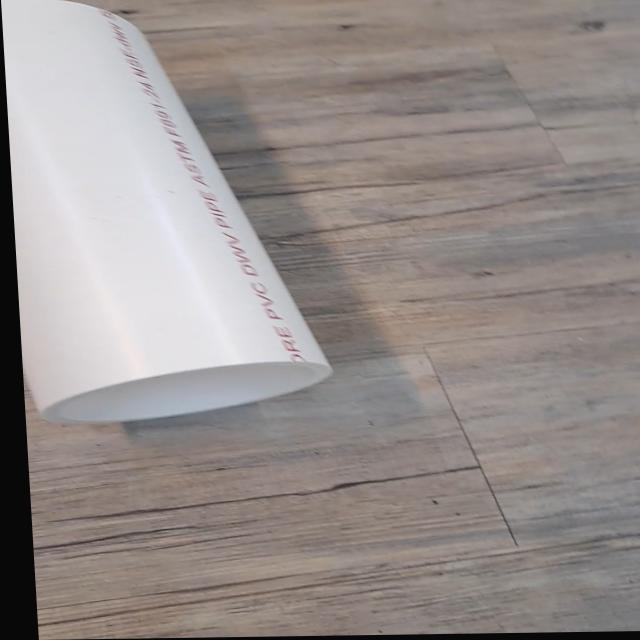CORAL: (1, 0, 342, 425)
